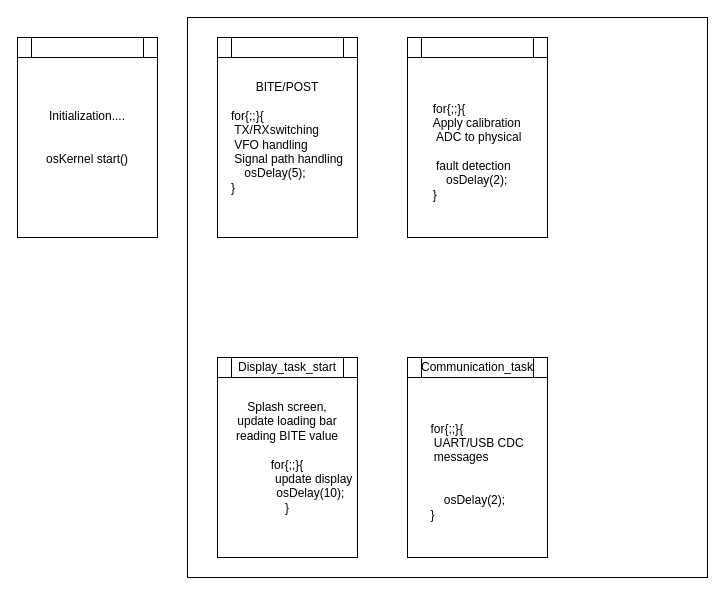
Image size: 725x595. Some labels were removed from this diagram. Each missing label, with the centre of its shape:
ADC_task_start: the point at 477,47
main.c: the point at 87,47
Main_task_start: the point at 287,47
